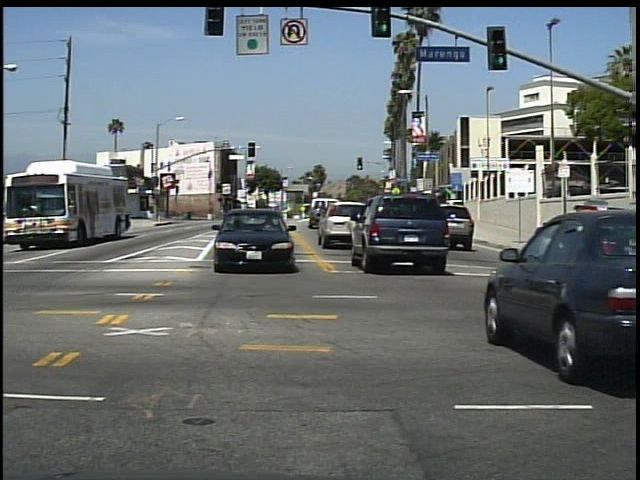car: (482, 162, 634, 385), (360, 172, 458, 277), (223, 207, 294, 272), (330, 191, 364, 246)
